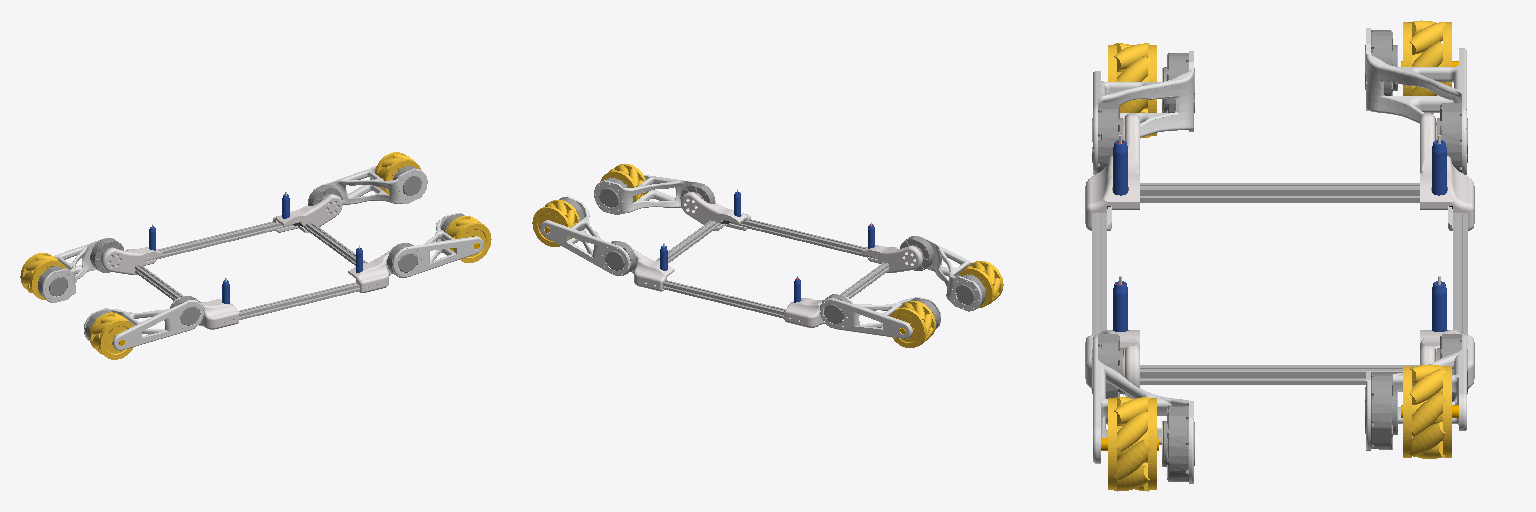
--- Render facts (derived) ---
Views: 3 orthographic renders of the robot side by side, from view 1: azimuth 30°, elevation 25°; view 2: azimuth 150°, elevation 25°; view 3: azimuth 270°, elevation 25°.
Model rover with 9 links and 8 joints (8 revolute), rooted at chassis_box, posed all joints at 0.
Links seen in each view (by area): view 1: chassis_box, arms_4, arms_2, arms_3, arms, nm127al_2_1_2, nm127al_2_1_3, nm127al_2_1, nm127al_2_1_4; view 2: chassis_box, arms_3, arms_4, arms, arms_2, nm127al_2_1, nm127al_2_1_4, nm127al_2_1_2, nm127al_2_1_3; view 3: chassis_box, arms, arms_2, arms_3, nm127al_2_1_3, nm127al_2_1_4, arms_4, nm127al_2_1, nm127al_2_1_2.
Boxes of the visible links, <box> form: chassis_box: <box>101,192,397,329</box>; arms_4: <box>308,166,427,205</box>; arms_2: <box>84,296,203,350</box>; arms_3: <box>387,213,483,277</box>; arms: <box>38,238,123,302</box>; nm127al_2_1_2: <box>89,312,133,359</box>; nm127al_2_1_3: <box>444,216,491,262</box>; nm127al_2_1: <box>20,253,65,299</box>; nm127al_2_1_4: <box>375,152,420,194</box>; chassis_box: <box>624,189,922,327</box>; arms_3: <box>594,175,715,214</box>; arms_4: <box>540,196,635,275</box>; arms: <box>820,294,940,338</box>; arms_2: <box>900,236,985,311</box>; nm127al_2_1: <box>890,301,935,347</box>; nm127al_2_1_4: <box>532,200,579,246</box>; nm127al_2_1_2: <box>958,261,1003,307</box>; nm127al_2_1_3: <box>600,164,646,202</box>; chassis_box: <box>1085,113,1474,398</box>; arms: <box>1365,28,1467,174</box>; arms_2: <box>1092,51,1194,174</box>; arms_3: <box>1092,334,1194,483</box>; nm127al_2_1_3: <box>1108,397,1156,491</box>; nm127al_2_1_4: <box>1403,364,1451,458</box>; arms_4: <box>1365,334,1467,450</box>; nm127al_2_1: <box>1403,20,1451,113</box>; nm127al_2_1_2: <box>1108,43,1156,137</box>.
Size in the robot's own frame: 1.26 by 0.496 by 0.1953 metres.
52 mesh visuals loaded from 13 distinct referenced files (13 binary STL).

URDF robot description (rover):
<?xml version="1.0" ?>
<!-- Generated using onshape-to-robot -->
<!-- Onshape https://cad.onshape.com/documents/fbdebab08d0edb93c16dc3ed/w/8271ad475d97c89b22699f0b/e/1897dc5c7b79070d373ecd09 -->
<robot name="rover">
  <!-- Link chassis_box -->
  <link name="chassis_box">
    <inertial>
      <origin xyz="-0.177107 -0.352162 0.0960598" rpy="0 0 0"/>
      <mass value="2.36817"/>
      <inertia ixx="0.0956239" ixy="8.26557e-09" ixz="6.43055e-10" iyy="0.156625" iyz="5.90639e-09" izz="0.249964"/>
    </inertial>
    <!-- Part aluminum_profile_2 -->
    <visual>
      <origin xyz="0.128037 -0.572162 0.0948045" rpy="-1.5708 1.5708 0"/>
      <geometry>
        <mesh filename="package://assets/aluminum_profile_2.stl"/>
      </geometry>
      <material name="aluminum_profile_2_material">
        <color rgba="0.752941 0.752941 0.752941 1.0"/>
      </material>
    </visual>
    <collision>
      <origin xyz="0.128037 -0.572162 0.0948045" rpy="-1.5708 1.5708 0"/>
      <geometry>
        <mesh filename="package://assets/aluminum_profile_2.stl"/>
      </geometry>
    </collision>
    <!-- Part chasis_union -->
    <visual>
      <origin xyz="-0.442107 -0.572162 0.0826106" rpy="-1.5708 9.79687e-15 4.69788e-15"/>
      <geometry>
        <mesh filename="package://assets/chasis_union.stl"/>
      </geometry>
      <material name="chasis_union_material">
        <color rgba="0.262745 0.282353 0.301961 1.0"/>
      </material>
    </visual>
    <collision>
      <origin xyz="-0.442107 -0.572162 0.0826106" rpy="-1.5708 9.79687e-15 4.69788e-15"/>
      <geometry>
        <mesh filename="package://assets/chasis_union.stl"/>
      </geometry>
    </collision>
    <!-- Part aluminum_profile -->
    <visual>
      <origin xyz="-0.462107 -0.612306 0.0948045" rpy="-4.69788e-15 1.5708 0"/>
      <geometry>
        <mesh filename="package://assets/aluminum_profile.stl"/>
      </geometry>
      <material name="aluminum_profile_material">
        <color rgba="0.752941 0.752941 0.752941 1.0"/>
      </material>
    </visual>
    <collision>
      <origin xyz="-0.462107 -0.612306 0.0948045" rpy="-4.69788e-15 1.5708 0"/>
      <geometry>
        <mesh filename="package://assets/aluminum_profile.stl"/>
      </geometry>
    </collision>
    <!-- Part chasis_union_2 -->
    <visual>
      <origin xyz="-0.442107 -0.132162 0.0826106" rpy="1.5708 9.01971e-15 5.47504e-15"/>
      <geometry>
        <mesh filename="package://assets/chasis_union.stl"/>
      </geometry>
      <material name="chasis_union_2_material">
        <color rgba="0.262745 0.282353 0.301961 1.0"/>
      </material>
    </visual>
    <collision>
      <origin xyz="-0.442107 -0.132162 0.0826106" rpy="1.5708 9.01971e-15 5.47504e-15"/>
      <geometry>
        <mesh filename="package://assets/chasis_union.stl"/>
      </geometry>
    </collision>
    <!-- Part aluminum_profile_2_2 -->
    <visual>
      <origin xyz="-0.439913 -0.132162 0.112754" rpy="-1.5708 -9.01971e-15 -3.14159"/>
      <geometry>
        <mesh filename="package://assets/aluminum_profile_2.stl"/>
      </geometry>
      <material name="aluminum_profile_2_2_material">
        <color rgba="0.752941 0.752941 0.752941 1.0"/>
      </material>
    </visual>
    <collision>
      <origin xyz="-0.439913 -0.132162 0.112754" rpy="-1.5708 -9.01971e-15 -3.14159"/>
      <geometry>
        <mesh filename="package://assets/aluminum_profile_2.stl"/>
      </geometry>
    </collision>
    <!-- Part chasis_union_3 -->
    <visual>
      <origin xyz="0.0878934 -0.132162 0.0826106" rpy="1.5708 3.24249e-14 -1.5708"/>
      <geometry>
        <mesh filename="package://assets/chasis_union.stl"/>
      </geometry>
      <material name="chasis_union_3_material">
        <color rgba="0.262745 0.282353 0.301961 1.0"/>
      </material>
    </visual>
    <collision>
      <origin xyz="0.0878934 -0.132162 0.0826106" rpy="1.5708 3.24249e-14 -1.5708"/>
      <geometry>
        <mesh filename="package://assets/chasis_union.stl"/>
      </geometry>
    </collision>
    <!-- Part aluminum_profile_2 -->
    <visual>
      <origin xyz="-0.462107 -0.152306 0.0948045" rpy="-5.47504e-15 1.5708 0"/>
      <geometry>
        <mesh filename="package://assets/aluminum_profile.stl"/>
      </geometry>
      <material name="aluminum_profile_2_material">
        <color rgba="0.752941 0.752941 0.752941 1.0"/>
      </material>
    </visual>
    <collision>
      <origin xyz="-0.462107 -0.152306 0.0948045" rpy="-5.47504e-15 1.5708 0"/>
      <geometry>
        <mesh filename="package://assets/aluminum_profile.stl"/>
      </geometry>
    </collision>
    <!-- Part chasis_union_4 -->
    <visual>
      <origin xyz="0.0878934 -0.572162 0.0826106" rpy="1.5708 -9.79687e-15 -3.14159"/>
      <geometry>
        <mesh filename="package://assets/chasis_union.stl"/>
      </geometry>
      <material name="chasis_union_4_material">
        <color rgba="0.262745 0.282353 0.301961 1.0"/>
      </material>
    </visual>
    <collision>
      <origin xyz="0.0878934 -0.572162 0.0826106" rpy="1.5708 -9.79687e-15 -3.14159"/>
      <geometry>
        <mesh filename="package://assets/chasis_union.stl"/>
      </geometry>
    </collision>
    <!-- Part bearing_mini -->
    <visual>
      <origin xyz="-0.389144 -0.148962 0.178611" rpy="3.48674e-14 2.33147e-14 1.36002e-15"/>
      <geometry>
        <mesh filename="package://assets/bearing_mini.stl"/>
      </geometry>
      <material name="bearing_mini_material">
        <color rgba="0.729412 0.25098 0.105882 1.0"/>
      </material>
    </visual>
    <collision>
      <origin xyz="-0.389144 -0.148962 0.178611" rpy="3.48674e-14 2.33147e-14 1.36002e-15"/>
      <geometry>
        <mesh filename="package://assets/bearing_mini.stl"/>
      </geometry>
    </collision>
    <!-- Part shoulder -->
    <visual>
      <origin xyz="-0.462107 -0.112162 0.0822106" rpy="1.33862e-15 9.32587e-15 5.47504e-15"/>
      <geometry>
        <mesh filename="package://assets/shoulder.stl"/>
      </geometry>
      <material name="shoulder_material">
        <color rgba="0.913725 0.890196 0.890196 1.0"/>
      </material>
    </visual>
    <collision>
      <origin xyz="-0.462107 -0.112162 0.0822106" rpy="1.33862e-15 9.32587e-15 5.47504e-15"/>
      <geometry>
        <mesh filename="package://assets/shoulder.stl"/>
      </geometry>
    </collision>
    <!-- Part tool -->
    <visual>
      <origin xyz="-0.390107 -0.148962 0.102611" rpy="3.48674e-14 2.33147e-14 -8.29892e-15"/>
      <geometry>
        <mesh filename="package://assets/tool.stl"/>
      </geometry>
      <material name="tool_material">
        <color rgba="0.913725 0.890196 0.890196 1.0"/>
      </material>
    </visual>
    <collision>
      <origin xyz="-0.390107 -0.148962 0.102611" rpy="3.48674e-14 2.33147e-14 -8.29892e-15"/>
      <geometry>
        <mesh filename="package://assets/tool.stl"/>
      </geometry>
    </collision>
    <!-- Part tool_holder -->
    <visual>
      <origin xyz="-0.462107 -0.112162 0.0822106" rpy="3.48674e-14 2.33147e-14 -2.58333e-14"/>
      <geometry>
        <mesh filename="package://assets/tool_holder.stl"/>
      </geometry>
      <material name="tool_holder_material">
        <color rgba="0.231373 0.380392 0.705882 1.0"/>
      </material>
    </visual>
    <collision>
      <origin xyz="-0.462107 -0.112162 0.0822106" rpy="3.48674e-14 2.33147e-14 -2.58333e-14"/>
      <geometry>
        <mesh filename="package://assets/tool_holder.stl"/>
      </geometry>
    </collision>
    <!-- Part tool_2 -->
    <visual>
      <origin xyz="-0.390107 -0.555362 0.102611" rpy="2.51605e-14 -2.43924e-14 1.05324"/>
      <geometry>
        <mesh filename="package://assets/tool.stl"/>
      </geometry>
      <material name="tool_2_material">
        <color rgba="0.913725 0.890196 0.890196 1.0"/>
      </material>
    </visual>
    <collision>
      <origin xyz="-0.390107 -0.555362 0.102611" rpy="2.51605e-14 -2.43924e-14 1.05324"/>
      <geometry>
        <mesh filename="package://assets/tool.stl"/>
      </geometry>
    </collision>
    <!-- Part bearing_mini_2 -->
    <visual>
      <origin xyz="-0.390361 -0.556291 0.178611" rpy="-1.83468e-14 2.98569e-14 -1.83846"/>
      <geometry>
        <mesh filename="package://assets/bearing_mini.stl"/>
      </geometry>
      <material name="bearing_mini_2_material">
        <color rgba="0.729412 0.25098 0.105882 1.0"/>
      </material>
    </visual>
    <collision>
      <origin xyz="-0.390361 -0.556291 0.178611" rpy="-1.83468e-14 2.98569e-14 -1.83846"/>
      <geometry>
        <mesh filename="package://assets/bearing_mini.stl"/>
      </geometry>
    </collision>
    <!-- Part shoulder_2 -->
    <visual>
      <origin xyz="-0.462107 -0.592162 0.282211" rpy="-3.14159 9.79687e-15 4.69788e-15"/>
      <geometry>
        <mesh filename="package://assets/shoulder__2.stl"/>
      </geometry>
      <material name="shoulder_2_material">
        <color rgba="0.913725 0.890196 0.890196 1.0"/>
      </material>
    </visual>
    <collision>
      <origin xyz="-0.462107 -0.592162 0.282211" rpy="-3.14159 9.79687e-15 4.69788e-15"/>
      <geometry>
        <mesh filename="package://assets/shoulder__2.stl"/>
      </geometry>
    </collision>
    <!-- Part tool_holder_2 -->
    <visual>
      <origin xyz="-0.345744 -0.622965 0.0822106" rpy="-2.43924e-14 -2.51605e-14 2.62403"/>
      <geometry>
        <mesh filename="package://assets/tool_holder.stl"/>
      </geometry>
      <material name="tool_holder_2_material">
        <color rgba="0.231373 0.380392 0.705882 1.0"/>
      </material>
    </visual>
    <collision>
      <origin xyz="-0.345744 -0.622965 0.0822106" rpy="-2.43924e-14 -2.51605e-14 2.62403"/>
      <geometry>
        <mesh filename="package://assets/tool_holder.stl"/>
      </geometry>
    </collision>
    <!-- Part bearing_mini_3 -->
    <visual>
      <origin xyz="0.036856 -0.555362 0.178611" rpy="3.37571e-14 9.82462e-15 1.53211e-14"/>
      <geometry>
        <mesh filename="package://assets/bearing_mini.stl"/>
      </geometry>
      <material name="bearing_mini_3_material">
        <color rgba="0.729412 0.25098 0.105882 1.0"/>
      </material>
    </visual>
    <collision>
      <origin xyz="0.036856 -0.555362 0.178611" rpy="3.37571e-14 9.82462e-15 1.53211e-14"/>
      <geometry>
        <mesh filename="package://assets/bearing_mini.stl"/>
      </geometry>
    </collision>
    <!-- Part shoulder_3 -->
    <visual>
      <origin xyz="0.107893 -0.592162 0.0822106" rpy="-3.36461e-14 -9.35278e-15 -3.14159"/>
      <geometry>
        <mesh filename="package://assets/shoulder.stl"/>
      </geometry>
      <material name="shoulder_3_material">
        <color rgba="0.913725 0.890196 0.890196 1.0"/>
      </material>
    </visual>
    <collision>
      <origin xyz="0.107893 -0.592162 0.0822106" rpy="-3.36461e-14 -9.35278e-15 -3.14159"/>
      <geometry>
        <mesh filename="package://assets/shoulder.stl"/>
      </geometry>
    </collision>
    <!-- Part tool_3 -->
    <visual>
      <origin xyz="0.0358934 -0.555362 0.102611" rpy="3.37571e-14 9.82462e-15 5.66214e-15"/>
      <geometry>
        <mesh filename="package://assets/tool.stl"/>
      </geometry>
      <material name="tool_3_material">
        <color rgba="0.913725 0.890196 0.890196 1.0"/>
      </material>
    </visual>
    <collision>
      <origin xyz="0.0358934 -0.555362 0.102611" rpy="3.37571e-14 9.82462e-15 5.66214e-15"/>
      <geometry>
        <mesh filename="package://assets/tool.stl"/>
      </geometry>
    </collision>
    <!-- Part tool_holder_3 -->
    <visual>
      <origin xyz="0.107893 -0.592162 0.0822106" rpy="-3.37571e-14 -9.82462e-15 3.14159"/>
      <geometry>
        <mesh filename="package://assets/tool_holder.stl"/>
      </geometry>
      <material name="tool_holder_3_material">
        <color rgba="0.231373 0.380392 0.705882 1.0"/>
      </material>
    </visual>
    <collision>
      <origin xyz="0.107893 -0.592162 0.0822106" rpy="-3.37571e-14 -9.82462e-15 3.14159"/>
      <geometry>
        <mesh filename="package://assets/tool_holder.stl"/>
      </geometry>
    </collision>
    <!-- Part tool_4 -->
    <visual>
      <origin xyz="0.0358934 -0.148962 0.102611" rpy="5.53115e-14 -8.63195e-15 1.05324"/>
      <geometry>
        <mesh filename="package://assets/tool.stl"/>
      </geometry>
      <material name="tool_4_material">
        <color rgba="0.913725 0.890196 0.890196 1.0"/>
      </material>
    </visual>
    <collision>
      <origin xyz="0.0358934 -0.148962 0.102611" rpy="5.53115e-14 -8.63195e-15 1.05324"/>
      <geometry>
        <mesh filename="package://assets/tool.stl"/>
      </geometry>
    </collision>
    <!-- Part bearing_mini_4 -->
    <visual>
      <origin xyz="0.0356388 -0.149891 0.178611" rpy="-5.14589e-14 2.20423e-14 -1.83846"/>
      <geometry>
        <mesh filename="package://assets/bearing_mini.stl"/>
      </geometry>
      <material name="bearing_mini_4_material">
        <color rgba="0.729412 0.25098 0.105882 1.0"/>
      </material>
    </visual>
    <collision>
      <origin xyz="0.0356388 -0.149891 0.178611" rpy="-5.14589e-14 2.20423e-14 -1.83846"/>
      <geometry>
        <mesh filename="package://assets/bearing_mini.stl"/>
      </geometry>
    </collision>
    <!-- Part shoulder_4 -->
    <visual>
      <origin xyz="0.107893 -0.112162 0.282211" rpy="-3.14159 -9.37968e-15 -3.14159"/>
      <geometry>
        <mesh filename="package://assets/shoulder__2.stl"/>
      </geometry>
      <material name="shoulder_4_material">
        <color rgba="0.913725 0.890196 0.890196 1.0"/>
      </material>
    </visual>
    <collision>
      <origin xyz="0.107893 -0.112162 0.282211" rpy="-3.14159 -9.37968e-15 -3.14159"/>
      <geometry>
        <mesh filename="package://assets/shoulder__2.stl"/>
      </geometry>
    </collision>
    <!-- Part tool_holder_4 -->
    <visual>
      <origin xyz="0.0802564 -0.216565 0.0822106" rpy="-8.63195e-15 -5.53115e-14 2.62403"/>
      <geometry>
        <mesh filename="package://assets/tool_holder.stl"/>
      </geometry>
      <material name="tool_holder_4_material">
        <color rgba="0.231373 0.380392 0.705882 1.0"/>
      </material>
    </visual>
    <collision>
      <origin xyz="0.0802564 -0.216565 0.0822106" rpy="-8.63195e-15 -5.53115e-14 2.62403"/>
      <geometry>
        <mesh filename="package://assets/tool_holder.stl"/>
      </geometry>
    </collision>
  </link>
  <!-- Link arms -->
  <link name="arms">
    <inertial>
      <origin xyz="4.45578e-05 0.11867 0.0180832" rpy="0 0 0"/>
      <mass value="1.30083"/>
      <inertia ixx="0.0169131" ixy="8.24334e-06" ixz="1.5171e-06" iyy="0.00335311" iyz="-0.00492681" izz="0.0150076"/>
    </inertial>
    <!-- Part motor_case -->
    <visual>
      <origin xyz="-1.9361e-08 0.2198 0.0474" rpy="3.14159 2.64211e-14 0.572487"/>
      <geometry>
        <mesh filename="package://assets/motor_case.stl"/>
      </geometry>
      <material name="motor_case_material">
        <color rgba="0.647059 0.647059 0.647059 1.0"/>
      </material>
    </visual>
    <collision>
      <origin xyz="-1.9361e-08 0.2198 0.0474" rpy="3.14159 2.64211e-14 0.572487"/>
      <geometry>
        <mesh filename="package://assets/motor_case.stl"/>
      </geometry>
    </collision>
    <!-- Part shaft_wheel -->
    <visual>
      <origin xyz="-2.84503e-08 0.219799 -0.0407" rpy="-1.5708 2.65661e-14 0.57871"/>
      <geometry>
        <mesh filename="package://assets/shaft_wheel.stl"/>
      </geometry>
      <material name="shaft_wheel_material">
        <color rgba="0.980392 0.713725 0.00392157 1.0"/>
      </material>
    </visual>
    <collision>
      <origin xyz="-2.84503e-08 0.219799 -0.0407" rpy="-1.5708 2.65661e-14 0.57871"/>
      <geometry>
        <mesh filename="package://assets/shaft_wheel.stl"/>
      </geometry>
    </collision>
    <!-- Part motor_part -->
    <visual>
      <origin xyz="2.25111e-07 -5.43466e-07 0.0002" rpy="-2.52765e-15 -6.77291e-16 2.0698e-30"/>
      <geometry>
        <mesh filename="package://assets/motor_part.stl"/>
      </geometry>
      <material name="motor_part_material">
        <color rgba="0.8 0.776471 0.713725 1.0"/>
      </material>
    </visual>
    <collision>
      <origin xyz="2.25111e-07 -5.43466e-07 0.0002" rpy="-2.52765e-15 -6.77291e-16 2.0698e-30"/>
      <geometry>
        <mesh filename="package://assets/motor_part.stl"/>
      </geometry>
    </collision>
    <!-- Part motor_case_2 -->
    <visual>
      <origin xyz="2.25111e-07 -5.43466e-07 0.0002" rpy="-2.52765e-15 -6.77291e-16 2.0698e-30"/>
      <geometry>
        <mesh filename="package://assets/motor_case.stl"/>
      </geometry>
      <material name="motor_case_2_material">
        <color rgba="0.647059 0.647059 0.647059 1.0"/>
      </material>
    </visual>
    <collision>
      <origin xyz="2.25111e-07 -5.43466e-07 0.0002" rpy="-2.52765e-15 -6.77291e-16 2.0698e-30"/>
      <geometry>
        <mesh filename="package://assets/motor_case.stl"/>
      </geometry>
    </collision>
    <!-- Part arms -->
    <visual>
      <origin xyz="-2.84503e-08 0.219799 0.0063" rpy="3.14159 -1.5708 0"/>
      <geometry>
        <mesh filename="package://assets/arms.stl"/>
      </geometry>
      <material name="arms_material">
        <color rgba="0.901961 0.901961 0.901961 1.0"/>
      </material>
    </visual>
    <collision>
      <origin xyz="-2.84503e-08 0.219799 0.0063" rpy="3.14159 -1.5708 0"/>
      <geometry>
        <mesh filename="package://assets/arms.stl"/>
      </geometry>
    </collision>
    <!-- Part motor_part_2 -->
    <visual>
      <origin xyz="-1.9361e-08 0.2198 0.0474" rpy="3.14159 2.64211e-14 0.572487"/>
      <geometry>
        <mesh filename="package://assets/motor_part.stl"/>
      </geometry>
      <material name="motor_part_2_material">
        <color rgba="0.8 0.776471 0.713725 1.0"/>
      </material>
    </visual>
    <collision>
      <origin xyz="-1.9361e-08 0.2198 0.0474" rpy="3.14159 2.64211e-14 0.572487"/>
      <geometry>
        <mesh filename="package://assets/motor_part.stl"/>
      </geometry>
    </collision>
  </link>
  <!-- Link nm127al_2_1 -->
  <link name="nm127al_2_1">
    <inertial>
      <origin xyz="-1.5366e-09 3.74839e-09 -0.02945" rpy="0 0 0"/>
      <mass value="1.29733"/>
      <inertia ixx="0.00164005" ixy="-4.17414e-10" ixz="6.88963e-11" iyy="0.00163908" iyz="-6.52276e-11" izz="0.00237213"/>
    </inertial>
    <!-- Part nm127al_2_1 -->
    <visual>
      <origin xyz="-0.110143 -0.0847214 -0.223819" rpy="0.0188705 0.0456135 7.20256e-17"/>
      <geometry>
        <mesh filename="package://assets/nm127al_2_1.stl"/>
      </geometry>
      <material name="nm127al_2_1_material">
        <color rgba="1 0.807843 0.262745 1.0"/>
      </material>
    </visual>
    <collision>
      <origin xyz="-0.110143 -0.0847214 -0.223819" rpy="0.0188705 0.0456135 7.20256e-17"/>
      <geometry>
        <mesh filename="package://assets/nm127al_2_1.stl"/>
      </geometry>
    </collision>
  </link>
  <!-- Joint from arms to nm127al_2_1 -->
  <joint name="wheel1" type="revolute">
    <origin xyz="-2.84503e-08 0.219799 0.0393" rpy="4.21071e-14 -2.65898e-14 -2.56288"/>
    <parent link="arms"/>
    <child link="nm127al_2_1"/>
    <axis xyz="0 0 1"/>
    <limit effort="10" velocity="10" lower="-3.141592653589793" upper="3.141592653589793"/>
  </joint>
  <!-- Joint from chassis_box to arms -->
  <joint name="arm1" type="revolute">
    <origin xyz="-0.525107 -0.154162 0.122211" rpy="1.5708 -1.5708 0"/>
    <parent link="chassis_box"/>
    <child link="arms"/>
    <axis xyz="0 0 1"/>
    <limit effort="10" velocity="10" lower="-3.141592653589793" upper="3.141592653589793"/>
  </joint>
  <!-- Link arms_2 -->
  <link name="arms_2">
    <inertial>
      <origin xyz="8.42774e-05 0.118625 0.0178832" rpy="0 0 0"/>
      <mass value="1.30083"/>
      <inertia ixx="0.0169005" ixy="-7.43463e-06" ixz="-1.82744e-06" iyy="0.00335386" iyz="-0.00492282" izz="0.0149957"/>
    </inertial>
    <!-- Part motor_case_3 -->
    <visual>
      <origin xyz="6.32492e-07 0.2198 0.0472" rpy="-3.14159 1.1975e-16 -0.799849"/>
      <geometry>
        <mesh filename="package://assets/motor_case.stl"/>
      </geometry>
      <material name="motor_case_3_material">
        <color rgba="0.647059 0.647059 0.647059 1.0"/>
      </material>
    </visual>
    <collision>
      <origin xyz="6.32492e-07 0.2198 0.0472" rpy="-3.14159 1.1975e-16 -0.799849"/>
      <geometry>
        <mesh filename="package://assets/motor_case.stl"/>
      </geometry>
    </collision>
    <!-- Part shaft_wheel_2 -->
    <visual>
      <origin xyz="-2.84503e-08 0.219799 -0.0409" rpy="-1.5708 5.70661e-17 -3.03064"/>
      <geometry>
        <mesh filename="package://assets/shaft_wheel.stl"/>
      </geometry>
      <material name="shaft_wheel_2_material">
        <color rgba="0.980392 0.713725 0.00392157 1.0"/>
      </material>
    </visual>
    <collision>
      <origin xyz="-2.84503e-08 0.219799 -0.0409" rpy="-1.5708 5.70661e-17 -3.03064"/>
      <geometry>
        <mesh filename="package://assets/shaft_wheel.stl"/>
      </geometry>
    </collision>
    <!-- Part motor_part_3 -->
    <visual>
      <origin xyz="2.25111e-07 -5.43466e-07 0" rpy="2.57191e-31 3.95444e-30 1.47479e-17"/>
      <geometry>
        <mesh filename="package://assets/motor_part.stl"/>
      </geometry>
      <material name="motor_part_3_material">
        <color rgba="0.8 0.776471 0.713725 1.0"/>
      </material>
    </visual>
    <collision>
      <origin xyz="2.25111e-07 -5.43466e-07 0" rpy="2.57191e-31 3.95444e-30 1.47479e-17"/>
      <geometry>
        <mesh filename="package://assets/motor_part.stl"/>
      </geometry>
    </collision>
    <!-- Part motor_case_4 -->
    <visual>
      <origin xyz="2.25111e-07 -5.43466e-07 0" rpy="2.57191e-31 3.95444e-30 1.47479e-17"/>
      <geometry>
        <mesh filename="package://assets/motor_case.stl"/>
      </geometry>
      <material name="motor_case_4_material">
        <color rgba="0.647059 0.647059 0.647059 1.0"/>
      </material>
    </visual>
    <collision>
      <origin xyz="2.25111e-07 -5.43466e-07 0" rpy="2.57191e-31 3.95444e-30 1.47479e-17"/>
      <geometry>
        <mesh filename="package://assets/motor_case.stl"/>
      </geometry>
    </collision>
    <!-- Part arms_2 -->
    <visual>
      <origin xyz="-2.84503e-08 0.219799 0.0061" rpy="3.14159 -1.5708 0"/>
      <geometry>
        <mesh filename="package://assets/arms.stl"/>
      </geometry>
      <material name="arms_2_material">
        <color rgba="0.901961 0.901961 0.901961 1.0"/>
      </material>
    </visual>
    <collision>
      <origin xyz="-2.84503e-08 0.219799 0.0061" rpy="3.14159 -1.5708 0"/>
      <geometry>
        <mesh filename="package://assets/arms.stl"/>
      </geometry>
    </collision>
    <!-- Part motor_part_4 -->
    <visual>
      <origin xyz="6.32492e-07 0.2198 0.0472" rpy="-3.14159 1.1975e-16 -0.799849"/>
      <geometry>
        <mesh filename="package://assets/motor_part.stl"/>
      </geometry>
      <material name="motor_part_4_material">
        <color rgba="0.8 0.776471 0.713725 1.0"/>
      </material>
    </visual>
    <collision>
      <origin xyz="6.32492e-07 0.2198 0.0472" rpy="-3.14159 1.1975e-16 -0.799849"/>
      <geometry>
        <mesh filename="package://assets/motor_part.stl"/>
      </geometry>
    </collision>
  </link>
  <!-- Link nm127al_2_1_2 -->
  <link name="nm127al_2_1_2">
    <inertial>
      <origin xyz="-1.5366e-09 3.74839e-09 -0.02945" rpy="0 0 0"/>
      <mass value="1.29733"/>
      <inertia ixx="0.00164005" ixy="-4.17414e-10" ixz="6.88963e-11" iyy="0.00163908" iyz="-6.52276e-11" izz="0.00237213"/>
    </inertial>
    <!-- Part nm127al_2_1_2 -->
    <visual>
      <origin xyz="-0.110143 -0.0847214 -0.223819" rpy="0.0188705 0.0456135 3.71197e-18"/>
      <geometry>
        <mesh filename="package://assets/nm127al_2_1.stl"/>
      </geometry>
      <material name="nm127al_2_1_2_material">
        <color rgba="1 0.807843 0.262745 1.0"/>
      </material>
    </visual>
    <collision>
      <origin xyz="-0.110143 -0.0847214 -0.223819" rpy="0.0188705 0.0456135 3.71197e-18"/>
      <geometry>
        <mesh filename="package://assets/nm127al_2_1.stl"/>
      </geometry>
    </collision>
  </link>
  <!-- Joint from arms_2 to nm127al_2_1_2 -->
  <joint name="wheel2" type="revolute">
    <origin xyz="-2.84503e-08 0.219799 0.0391" rpy="6.92659e-17 -1.11456e-16 0.110948"/>
    <parent link="arms_2"/>
    <child link="nm127al_2_1_2"/>
    <axis xyz="0 0 1"/>
    <limit effort="10" velocity="10" lower="-3.141592653589793" upper="3.141592653589793"/>
  </joint>
  <!-- Joint from chassis_box to arms_2 -->
  <joint name="arm2" type="revolute">
    <origin xyz="-0.525107 -0.550162 0.122211" rpy="-1.5708 1.42893 2.40753e-13"/>
    <parent link="chassis_box"/>
    <child link="arms_2"/>
    <axis xyz="0 0 1"/>
    <limit effort="10" velocity="10" lower="-3.141592653589793" upper="3.141592653589793"/>
  </joint>
  <!-- Link arms_3 -->
  <link name="arms_3">
    <inertial>
      <origin xyz="-3.70804e-06 0.118588 0.0178832" rpy="0 0 0"/>
      <mass value="1.30083"/>
      <inertia ixx="0.0168953" ixy="1.02178e-05" ixz="5.25679e-06" iyy="0.00334925" iyz="-0.0049198" izz="0.014986"/>
    </inertial>
    <!-- Part motor_case_5 -->
    <visual>
      <origin xyz="-1.42659e-07 0.219799 0.0472" rpy="-3.14159 1.79624e-16 3.13537"/>
      <geometry>
        <mesh filename="package://assets/motor_case.stl"/>
      </geometry>
      <material name="motor_case_5_material">
        <color rgba="0.647059 0.647059 0.647059 1.0"/>
      </material>
    </visual>
    <collision>
      <origin xyz="-1.42659e-07 0.219799 0.0472" rpy="-3.14159 1.79624e-16 3.13537"/>
      <geometry>
        <mesh filename="package://assets/motor_case.stl"/>
      </geometry>
    </collision>
    <!-- Part shaft_wheel_3 -->
    <visual>
      <origin xyz="-2.84503e-08 0.219799 -0.0409" rpy="-1.5708 1.3884e-28 3.14159"/>
      <geometry>
        <mesh filename="package://assets/shaft_wheel.stl"/>
      </geometry>
      <material name="shaft_wheel_3_material">
        <color rgba="0.980392 0.713725 0.00392157 1.0"/>
      </material>
    </visual>
    <collision>
      <origin xyz="-2.84503e-08 0.219799 -0.0409" rpy="-1.5708 1.3884e-28 3.14159"/>
      <geometry>
        <mesh filename="package://assets/shaft_wheel.stl"/>
      </geometry>
    </collision>
    <!-- Part motor_part_5 -->
    <visual>
      <origin xyz="2.25111e-07 -5.43466e-07 0" rpy="1.76484e-30 -1.23204e-31 6.15142e-31"/>
      <geometry>
        <mesh filename="package://assets/motor_part.stl"/>
      </geometry>
      <material name="motor_part_5_material">
        <color rgba="0.8 0.776471 0.713725 1.0"/>
      </material>
    </visual>
    <collision>
      <origin xyz="2.25111e-07 -5.43466e-07 0" rpy="1.76484e-30 -1.23204e-31 6.15142e-31"/>
      <geometry>
        <mesh filename="package://assets/motor_part.stl"/>
      </geometry>
    </collision>
    <!-- Part motor_case_6 -->
    <visual>
      <origin xyz="2.25111e-07 -5.43466e-07 0" rpy="1.76484e-30 -1.23204e-31 6.15142e-31"/>
      <geometry>
        <mesh filename="package://assets/motor_case.stl"/>
      </geometry>
      <material name="motor_case_6_material">
        <color rgba="0.647059 0.647059 0.647059 1.0"/>
      </material>
    </visual>
    <collision>
      <origin xyz="2.25111e-07 -5.43466e-07 0" rpy="1.76484e-30 -1.23204e-31 6.15142e-31"/>
      <geometry>
        <mesh filename="package://assets/motor_case.stl"/>
      </geometry>
    </collision>
    <!-- Part arms_3 -->
    <visual>
      <origin xyz="-2.84503e-08 0.219799 0.0061" rpy="3.14159 -1.5708 0"/>
      <geometry>
        <mesh filename="package://assets/arms.stl"/>
      </geometry>
      <material name="arms_3_material">
        <color rgba="0.901961 0.901961 0.901961 1.0"/>
      </material>
    </visual>
    <collision>
      <origin xyz="-2.84503e-08 0.219799 0.0061" rpy="3.14159 -1.5708 0"/>
      <geometry>
        <mesh filename="package://assets/arms.stl"/>
      </geometry>
    </collision>
    <!-- Part motor_part_6 -->
    <visual>
      <origin xyz="-1.42659e-07 0.219799 0.0472" rpy="-3.14159 1.79624e-16 3.13537"/>
      <geometry>
        <mesh filename="package://assets/motor_part.stl"/>
      </geometry>
      <material name="motor_part_6_material">
        <color rgba="0.8 0.776471 0.713725 1.0"/>
      </material>
    </visual>
    <collision>
      <origin xyz="-1.42659e-07 0.219799 0.0472" rpy="-3.14159 1.79624e-16 3.13537"/>
      <geometry>
        <mesh filename="package://assets/motor_part.stl"/>
      </geometry>
    </collision>
  </link>
  <!-- Link nm127al_2_1_3 -->
  <link name="nm127al_2_1_3">
    <inertial>
      <origin xyz="-1.5366e-09 3.74839e-09 -0.02945" rpy="0 0 0"/>
      <mass value="1.29733"/>
      <inertia ixx="0.00164005" ixy="-4.17414e-10" ixz="6.88963e-11" iyy="0.00163908" iyz="-6.52276e-11" izz="0.00237213"/>
    </inertial>
    <!-- Part nm127al_2_1_3 -->
    <visual>
      <origin xyz="-0.110143 -0.0847214 -0.223819" rpy="0.0188705 0.0456135 -8.64537e-20"/>
      <geometry>
        <mesh filename="package://assets/nm127al_2_1.stl"/>
      </geometry>
      <material name="nm127al_2_1_3_material">
        <color rgba="1 0.807843 0.262745 1.0"/>
      </material>
    </visual>
    <collision>
      <origin xyz="-0.110143 -0.0847214 -0.223819" rpy="0.0188705 0.0456135 -8.64537e-20"/>
      <geometry>
        <mesh filename="package://assets/nm127al_2_1.stl"/>
      </geometry>
    </collision>
  </link>
  <!-- Joint from arms_3 to nm127al_2_1_3 -->
  <joint name="wheel3" type="revolute">
    <origin xyz="-2.84503e-08 0.219799 0.0391" rpy="2.88255e-14 -7.60441e-17 3.14159"/>
    <parent link="arms_3"/>
    <child link="nm127al_2_1_3"/>
    <axis xyz="0 0 1"/>
    <limit effort="10" velocity="10" lower="-3.141592653589793" upper="3.141592653589793"/>
  </joint>
  <!-- Joint from chassis_box to arms_3 -->
  <joint name="arm3" type="revolute">
    <origin xyz="0.170893 -0.550162 0.122211" rpy="-1.5708 -1.5708 0"/>
    <parent link="chassis_box"/>
    <child link="arms_3"/>
    <axis xyz="0 0 1"/>
    <limit effort="10" velocity="10" lower="-3.141592653589793" upper="3.141592653589793"/>
  </joint>
  <!-- Link arms_4 -->
  <link name="arms_4">
    <inertial>
      <origin xyz="4.59191e-05 0.118574 0.0178832" rpy="0 0 0"/>
      <mass value="1.30083"/>
      <inertia ixx="0.0168828" ixy="6.8397e-06" ixz="1.0963e-06" iyy="0.00335815" iyz="-0.0049188" izz="0.0149823"/>
    </inertial>
    <!-- Part motor_case_7 -->
    <visual>
      <origin xyz="4.58662e-07 0.219799 0.0472" rpy="-3.14159 1.51926e-17 -2.06243"/>
      <geometry>
        <mesh filename="package://assets/motor_case.stl"/>
      </geometry>
      <material name="motor_case_7_material">
        <color rgba="0.647059 0.647059 0.647059 1.0"/>
      </material>
    </visual>
    <collision>
      <origin xyz="4.58662e-07 0.219799 0.0472" rpy="-3.14159 1.51926e-17 -2.06243"/>
      <geometry>
        <mesh filename="package://assets/motor_case.stl"/>
      </geometry>
    </collision>
    <!-- Part shaft_wheel_4 -->
    <visual>
      <origin xyz="-2.84503e-08 0.219799 -0.0409" rpy="-1.5708 8.06602e-17 -2.16917"/>
      <geometry>
        <mesh filename="package://assets/shaft_wheel.stl"/>
      </geometry>
      <material name="shaft_wheel_4_material">
        <color rgba="0.980392 0.713725 0.00392157 1.0"/>
      </material>
    </visual>
    <collision>
      <origin xyz="-2.84503e-08 0.219799 -0.0409" rpy="-1.5708 8.06602e-17 -2.16917"/>
      <geometry>
        <mesh filename="package://assets/shaft_wheel.stl"/>
      </geometry>
    </collision>
    <!-- Part motor_part_7 -->
    <visual>
      <origin xyz="2.25111e-07 -5.43466e-07 0" rpy="2.39067e-30 -5.80583e-31 9.30546e-18"/>
      <geometry>
        <mesh filename="package://assets/motor_part.stl"/>
      </geometry>
      <material name="motor_part_7_material">
        <color rgba="0.8 0.776471 0.713725 1.0"/>
      </material>
    </visual>
    <collision>
      <origin xyz="2.25111e-07 -5.43466e-07 0" rpy="2.39067e-30 -5.80583e-31 9.30546e-18"/>
      <geometry>
        <mesh filename="package://assets/motor_part.stl"/>
      </geometry>
    </collision>
    <!-- Part motor_case_8 -->
    <visual>
      <origin xyz="2.25111e-07 -5.43466e-07 0" rpy="2.39067e-30 -5.80583e-31 9.30546e-18"/>
      <geometry>
        <mesh filename="package://assets/motor_case.stl"/>
      </geometry>
      <material name="motor_case_8_material">
        <color rgba="0.647059 0.647059 0.647059 1.0"/>
      </material>
    </visual>
    <collision>
      <origin xyz="2.25111e-07 -5.43466e-07 0" rpy="2.39067e-30 -5.80583e-31 9.30546e-18"/>
      <geometry>
        <mesh filename="package://assets/motor_case.stl"/>
      </geometry>
    </collision>
    <!-- Part arms_4 -->
    <visual>
      <origin xyz="-2.84503e-08 0.219799 0.0061" rpy="-3.14159 -1.5708 0"/>
      <geometry>
        <mesh filename="package://assets/arms.stl"/>
      </geometry>
      <material name="arms_4_material">
        <color rgba="0.901961 0.901961 0.901961 1.0"/>
      </material>
    </visual>
    <collision>
      <origin xyz="-2.84503e-08 0.219799 0.0061" rpy="-3.14159 -1.5708 0"/>
      <geometry>
        <mesh filename="package://assets/arms.stl"/>
      </geometry>
    </collision>
    <!-- Part motor_part_8 -->
    <visual>
      <origin xyz="4.58662e-07 0.219799 0.0472" rpy="-3.14159 1.51926e-17 -2.06243"/>
      <geometry>
        <mesh filename="package://assets/motor_part.stl"/>
      </geometry>
      <material name="motor_part_8_material">
        <color rgba="0.8 0.776471 0.713725 1.0"/>
      </material>
    </visual>
    <collision>
      <origin xyz="4.58662e-07 0.219799 0.0472" rpy="-3.14159 1.51926e-17 -2.06243"/>
      <geometry>
        <mesh filename="package://assets/motor_part.stl"/>
      </geometry>
    </collision>
  </link>
  <!-- Link nm127al_2_1_4 -->
  <link name="nm127al_2_1_4">
    <inertial>
      <origin xyz="-1.5366e-09 3.74839e-09 -0.02945" rpy="0 0 0"/>
      <mass value="1.29733"/>
      <inertia ixx="0.00164005" ixy="-4.17414e-10" ixz="6.88963e-11" iyy="0.00163908" iyz="-6.52276e-11" izz="0.00237213"/>
    </inertial>
    <!-- Part nm127al_2_1_4 -->
    <visual>
      <origin xyz="-0.110143 -0.0847214 -0.223819" rpy="0.0188705 0.0456135 -2.8096e-17"/>
      <geometry>
        <mesh filename="package://assets/nm127al_2_1.stl"/>
      </geometry>
      <material name="nm127al_2_1_4_material">
        <color rgba="1 0.807843 0.262745 1.0"/>
      </material>
    </visual>
    <collision>
      <origin xyz="-0.110143 -0.0847214 -0.223819" rpy="0.0188705 0.0456135 -2.8096e-17"/>
      <geometry>
        <mesh filename="package://assets/nm127al_2_1.stl"/>
      </geometry>
    </collision>
  </link>
  <!-- Joint from arms_4 to nm127al_2_1_4 -->
  <joint name="wheel4" type="revolute">
    <origin xyz="-2.84503e-08 0.219799 0.0391" rpy="-6.23368e-16 -1.15367e-16 0.972422"/>
    <parent link="arms_4"/>
    <child link="nm127al_2_1_4"/>
    <axis xyz="0 0 1"/>
    <limit effort="10" velocity="10" lower="-3.141592653589793" upper="3.141592653589793"/>
  </joint>
  <!-- Joint from chassis_box to arms_4 -->
  <joint name="arm4" type="revolute">
    <origin xyz="0.170893 -0.154162 0.122211" rpy="1.5708 1.37122 -2.40415e-13"/>
    <parent link="chassis_box"/>
    <child link="arms_4"/>
    <axis xyz="0 0 1"/>
    <limit effort="10" velocity="10" lower="-3.141592653589793" upper="3.141592653589793"/>
  </joint>
</robot>
